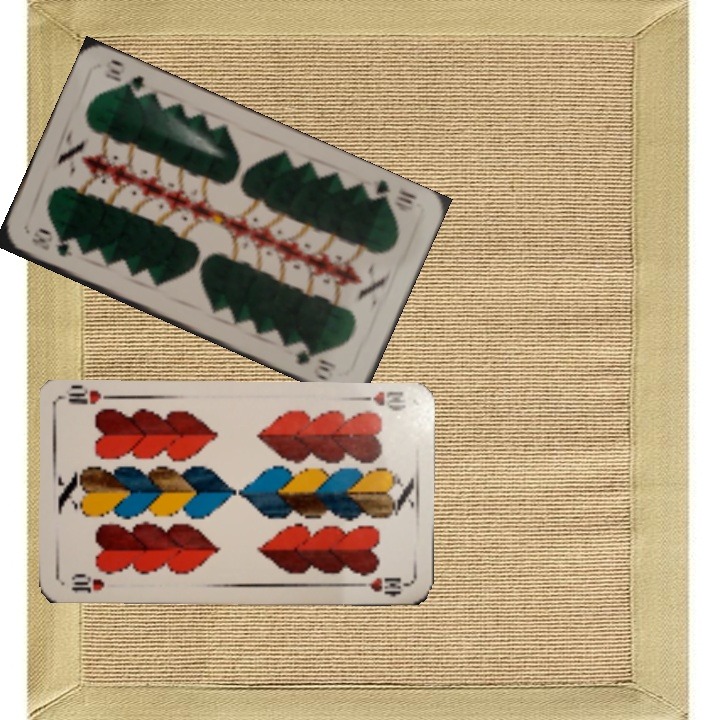G10: (361, 175, 420, 214), (27, 226, 76, 259)
H10: (352, 387, 408, 414), (67, 570, 107, 595)
